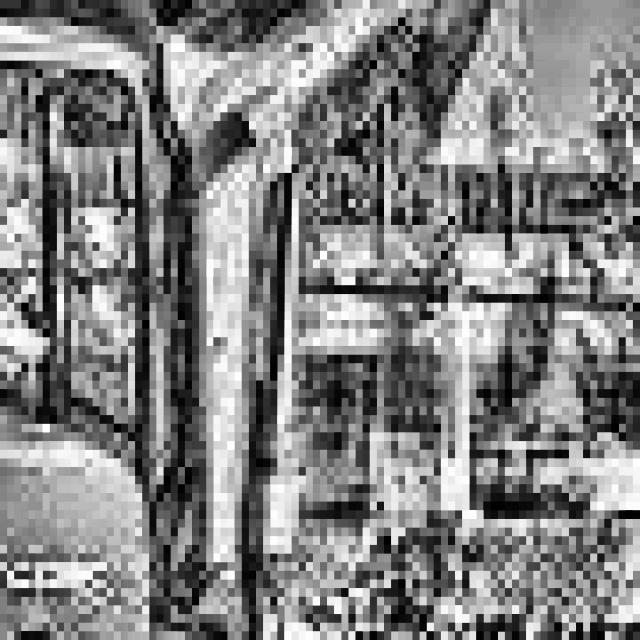excavator: (0, 0, 427, 640)
